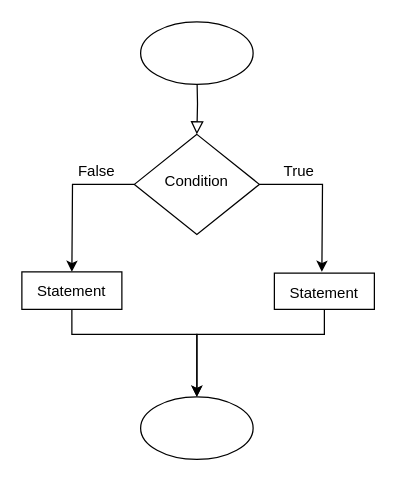
This 396x481 diagram has some shape labels left out. The centre of each missing label's shape, as x and y in pixels:
START: pixel 196 52
STOP: pixel 196 427
